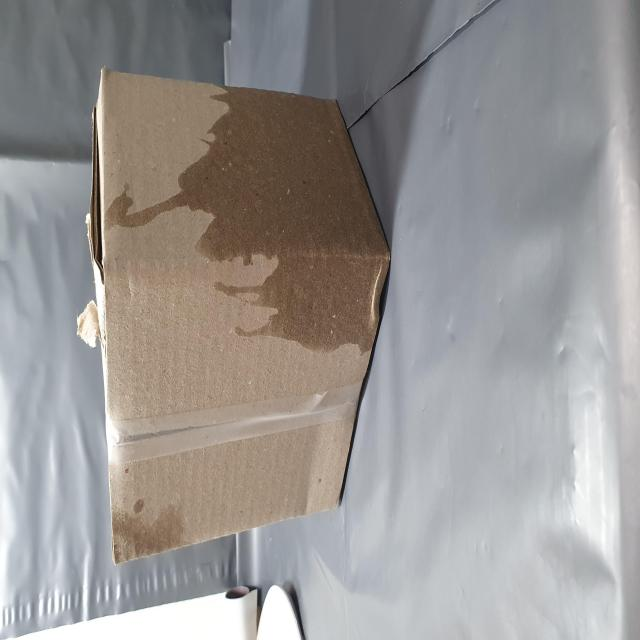wet: (143, 187, 319, 640), (50, 202, 92, 352)
